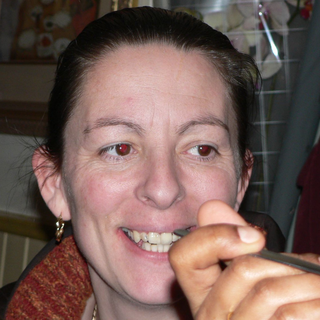eye: (87, 132, 147, 164), (175, 134, 227, 167)
